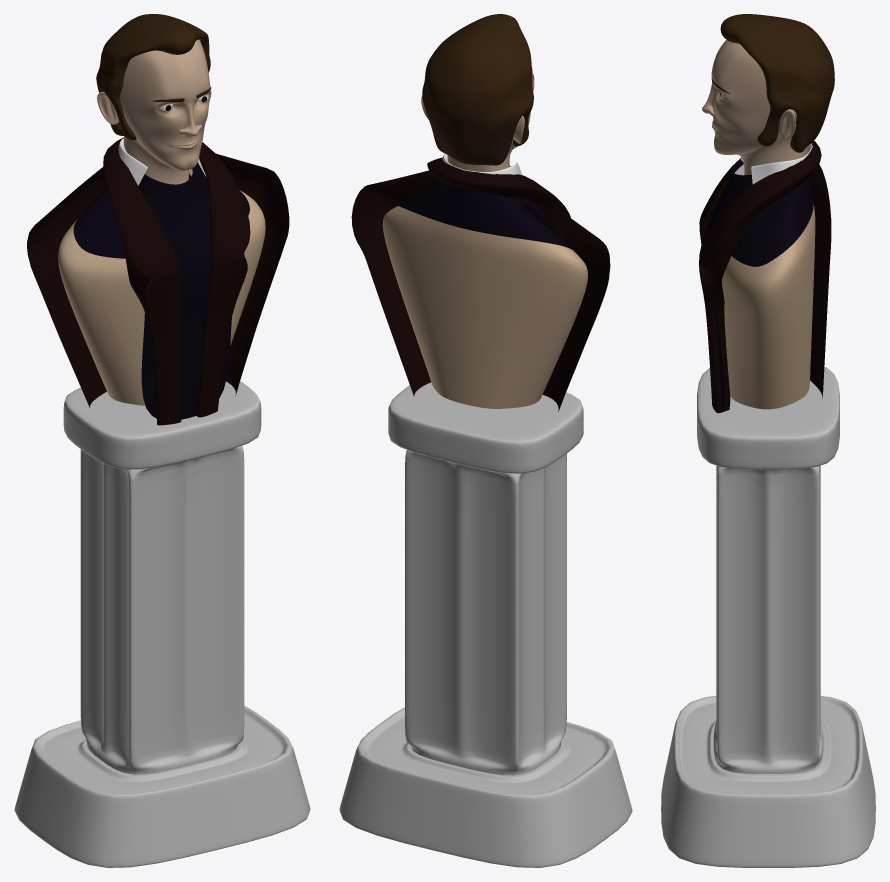
The model's file is bowie.gltf.
3 renders of one model, left to right at view 1: azimuth 30°, elevation 25°; view 2: azimuth 150°, elevation 25°; view 3: azimuth 270°, elevation 25°, orthographic.
Visible parts, largest first — view 1: Collumn.002, Plane, Cube, Plane.003, Cube.006, Plane.001; view 2: Collumn.002, Cube, Plane, Cube.006; view 3: Collumn.002, Cube, Plane, Cube.006, Plane.003, Plane.001.
Boxes of the visible parts, x1,y1,x2,y2 form: Collumn.002: (14, 381, 310, 867); Plane: (27, 137, 289, 425); Cube: (58, 39, 265, 405); Plane.003: (138, 146, 231, 419); Cube.006: (96, 14, 210, 140); Plane.001: (118, 138, 205, 185); Collumn.002: (339, 382, 632, 867); Cube: (382, 66, 587, 408); Plane: (351, 157, 610, 411); Cube.006: (422, 14, 533, 165); Collumn.002: (661, 367, 875, 867); Cube: (702, 39, 815, 409); Plane: (699, 141, 831, 413); Cube.006: (720, 14, 834, 152); Plane.003: (703, 159, 802, 408); Plane.001: (734, 143, 812, 184).
Bounding box in the file's own units: 3.89 × 12.2 × 3.
